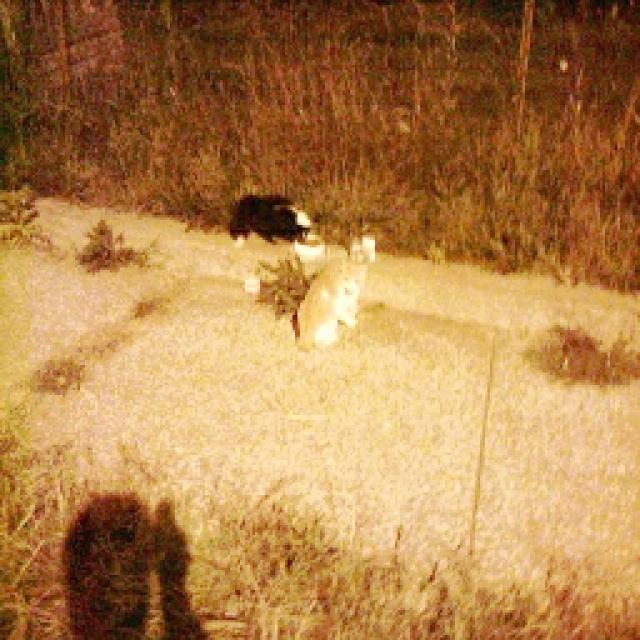cat: (294, 232, 378, 349), (233, 193, 326, 256)
